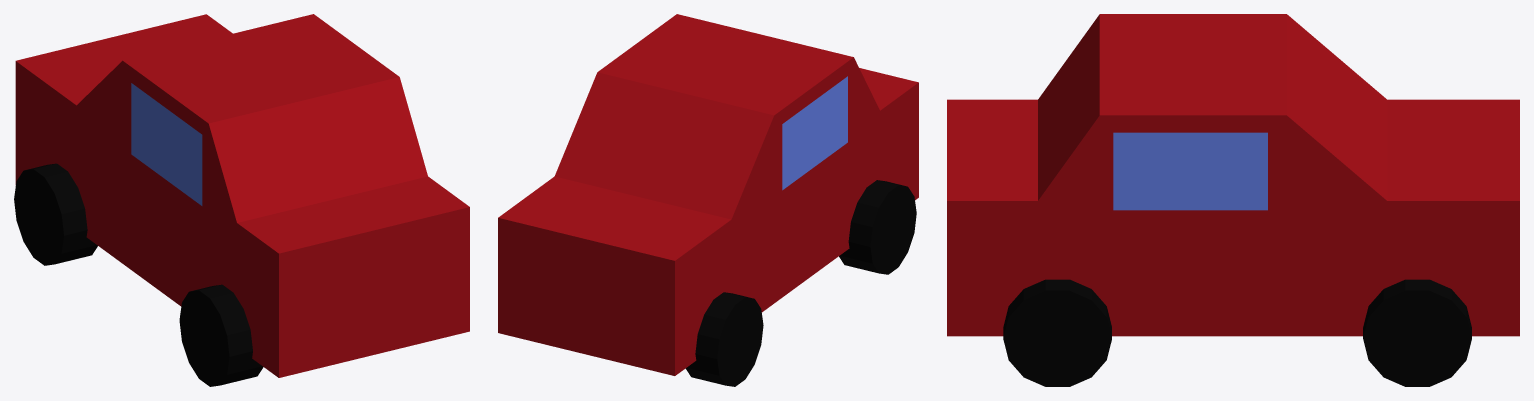
File: Car.fbx
The picture shows the model from 3 angles, left to right: view 1: azimuth 30°, elevation 25°; view 2: azimuth 150°, elevation 25°; view 3: azimuth 270°, elevation 25°; orthographic projection. The views are drawn at different scales.
Parts seen in each view (by area): view 1: Car, Car_BackWheel_Left, Car_FrontWheel_Left; view 2: Car, Car_BackWheel_Left, Car_FrontWheel_Left; view 3: Car, Car_BackWheel_Right, Car_FrontWheel_Right.
Boxes of the visible parts, bbox=[...] form: Car: bbox=[15, 14, 469, 377]; Car_BackWheel_Left: bbox=[179, 284, 263, 386]; Car_FrontWheel_Left: bbox=[14, 163, 97, 265]; Car: bbox=[498, 14, 918, 375]; Car_BackWheel_Left: bbox=[839, 180, 916, 274]; Car_FrontWheel_Left: bbox=[685, 292, 763, 386]; Car: bbox=[947, 14, 1519, 336]; Car_BackWheel_Right: bbox=[1003, 279, 1111, 386]; Car_FrontWheel_Right: bbox=[1363, 279, 1471, 386].
Bounding box in the file's own units: 103 × 100 × 200.
